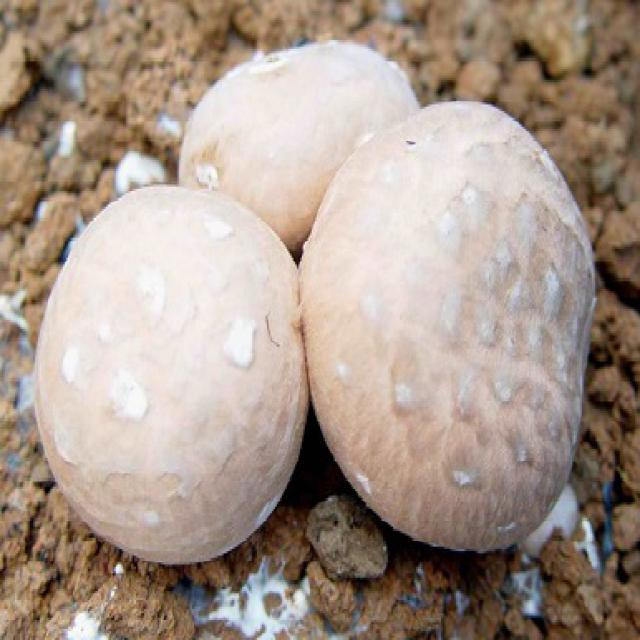Agaricus bisporus: (300, 99, 594, 551), (36, 186, 306, 564)
